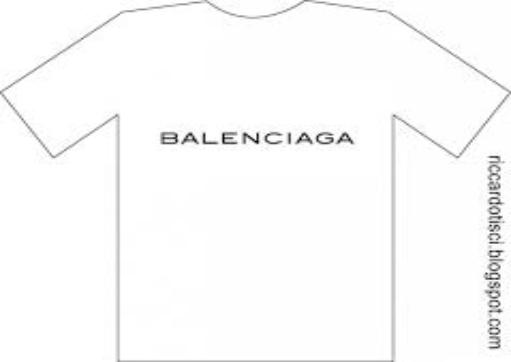BALENCIAGA: (158, 126, 354, 147)
